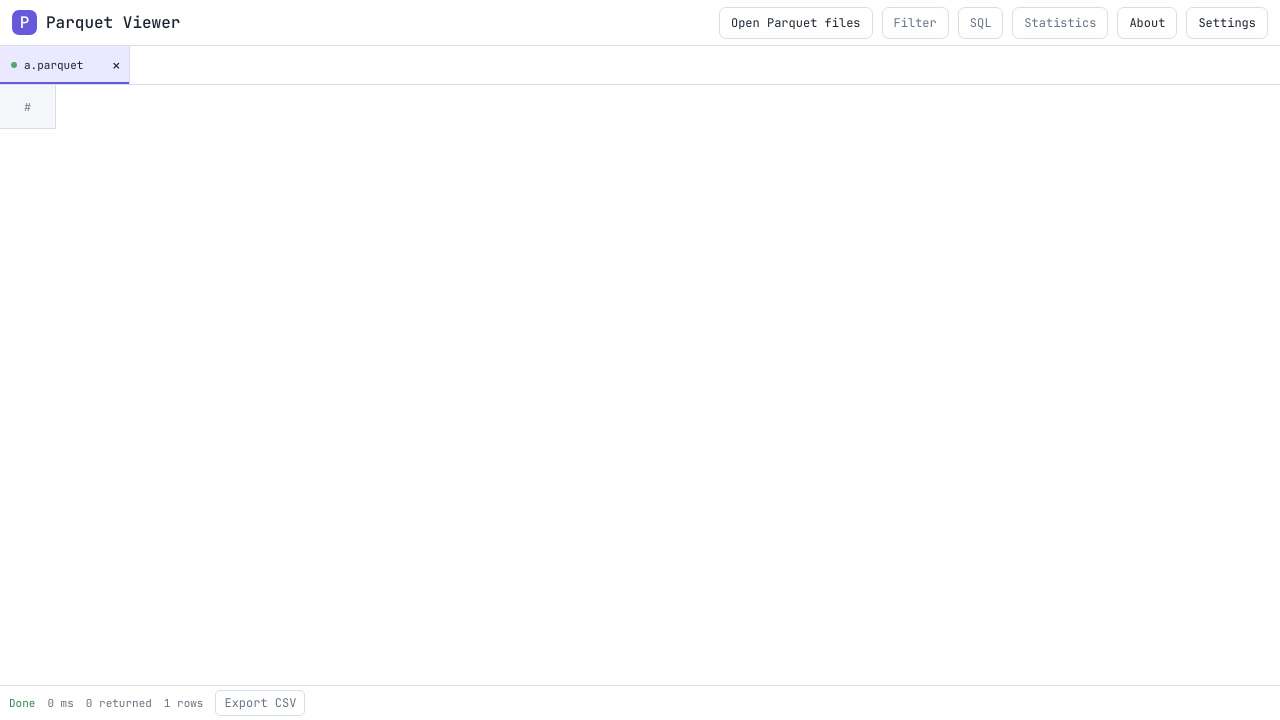
Scenario: uses an app-styled confirmation dialog before closing a tab
Click the button named "Close a.parquet": (116, 65) x1=103 y1=50 x2=129 y2=80
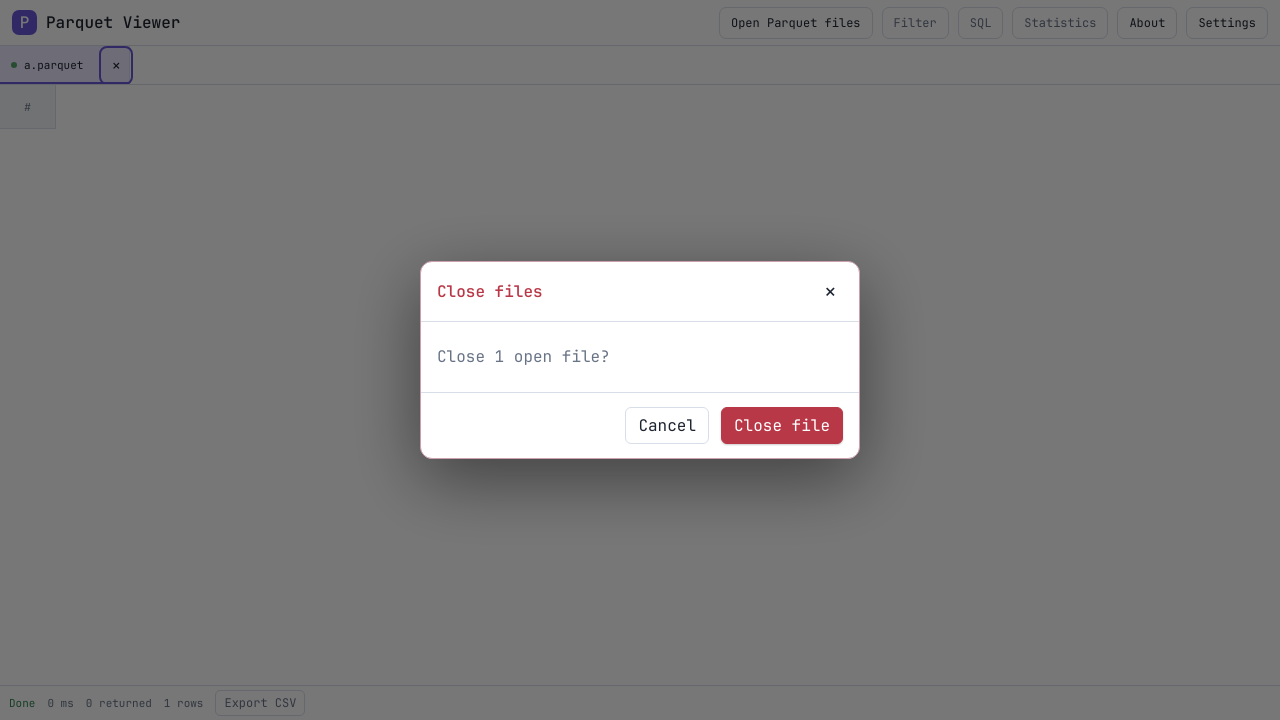
Expected: the dialog "Close files" does not show "Unsaved workspace state", x1=420 y1=261 x2=860 y2=459
Expected: the dialog "Close files" shows "Close 1 open file?", x1=437 y1=346 x2=610 y2=367
Click the button "Cancel": (667, 425) x1=625 y1=407 x2=709 y2=444
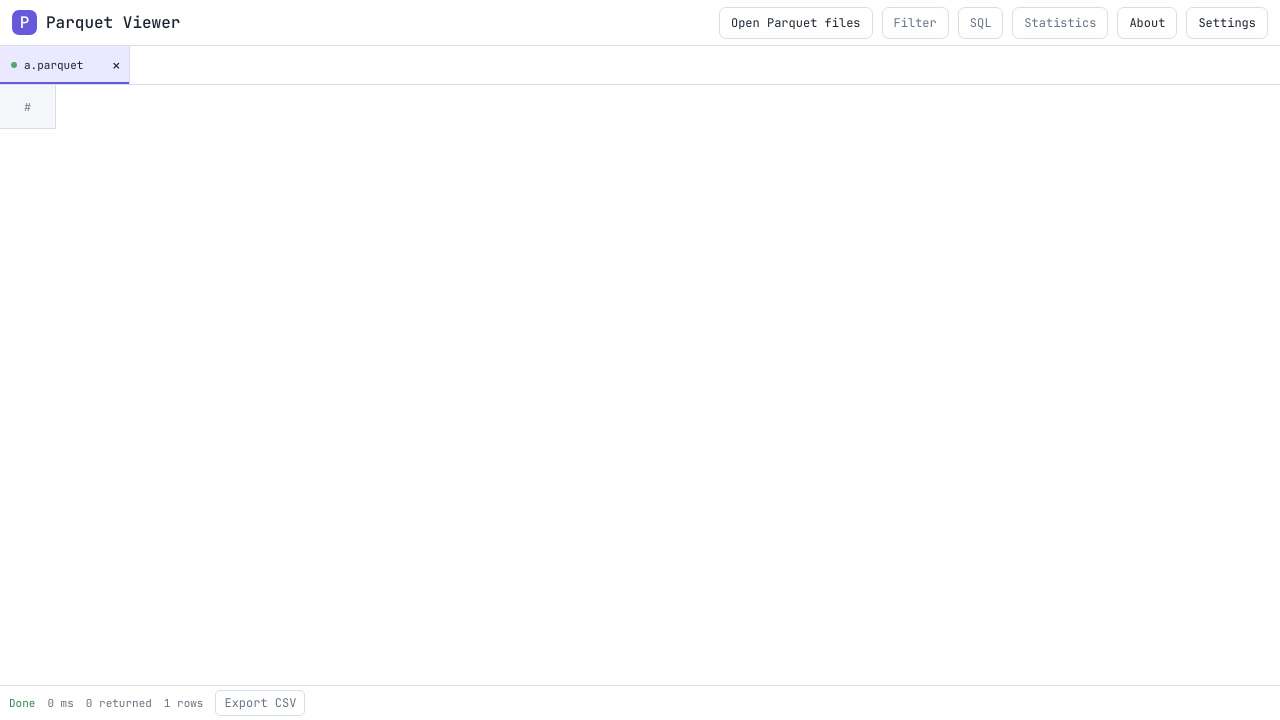
Expected: the tab "a.parquet" is shown, x1=0 y1=46 x2=103 y2=84
Click the button named "Close a.parquet": (116, 65) x1=103 y1=50 x2=129 y2=80
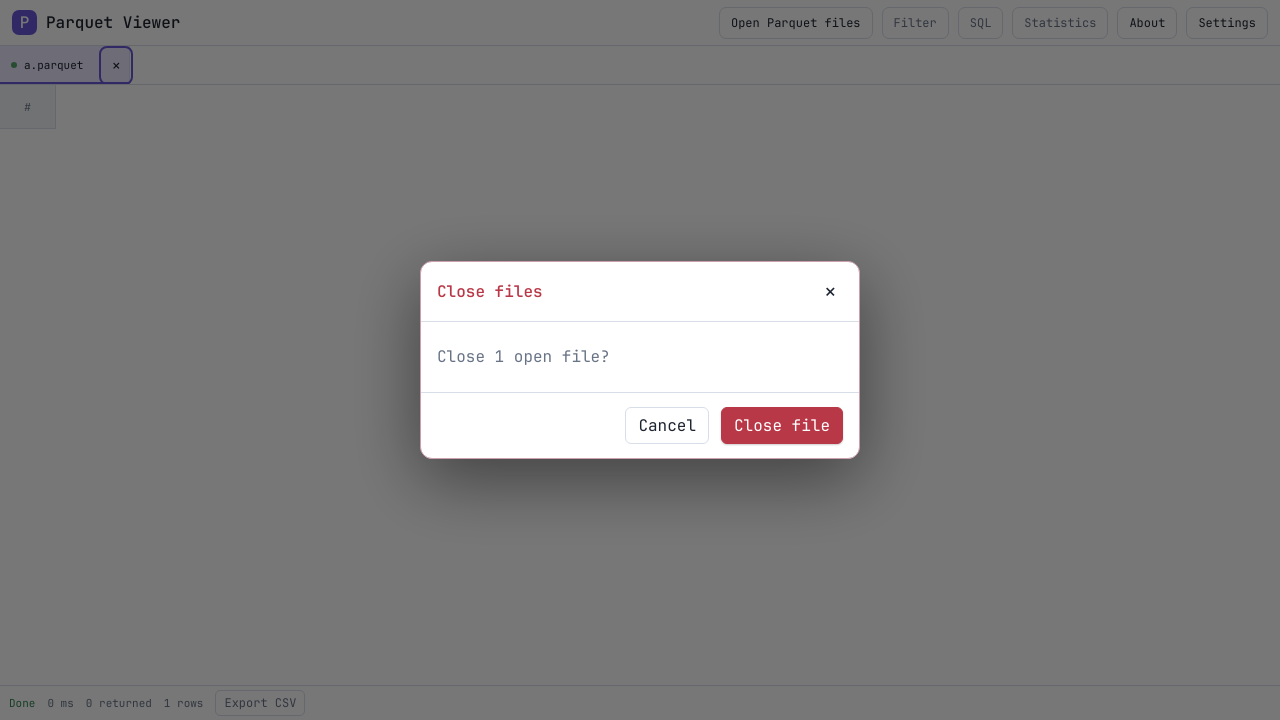
Click the button "Close file": (782, 425) x1=721 y1=407 x2=843 y2=444
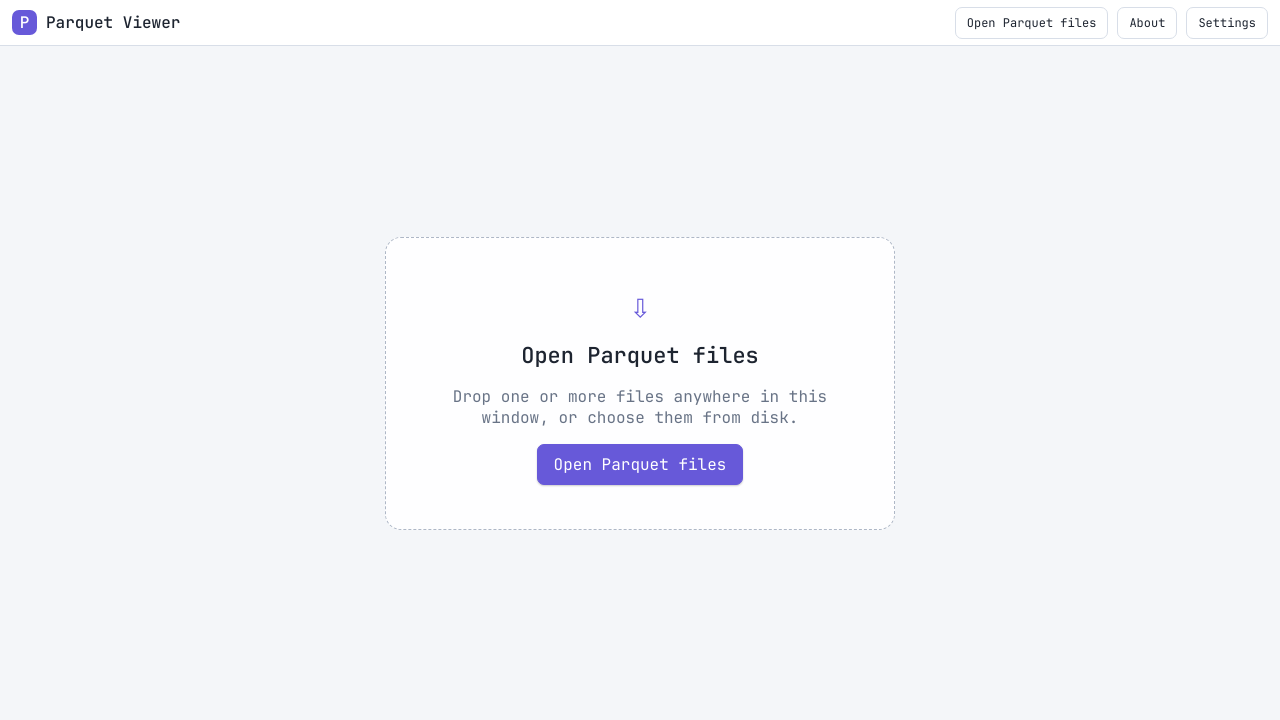
Expected: the tab "a.parquet" is gone
